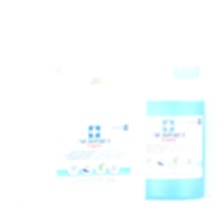cleaning_solution: (12, 60, 149, 221), (6, 3, 98, 205), (127, 42, 216, 204)
